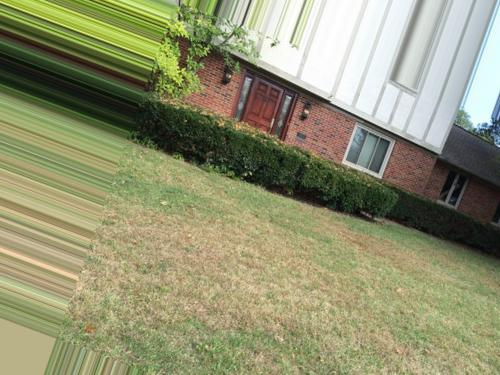patch: (188, 223, 279, 288), (212, 295, 273, 325), (150, 233, 182, 259)
